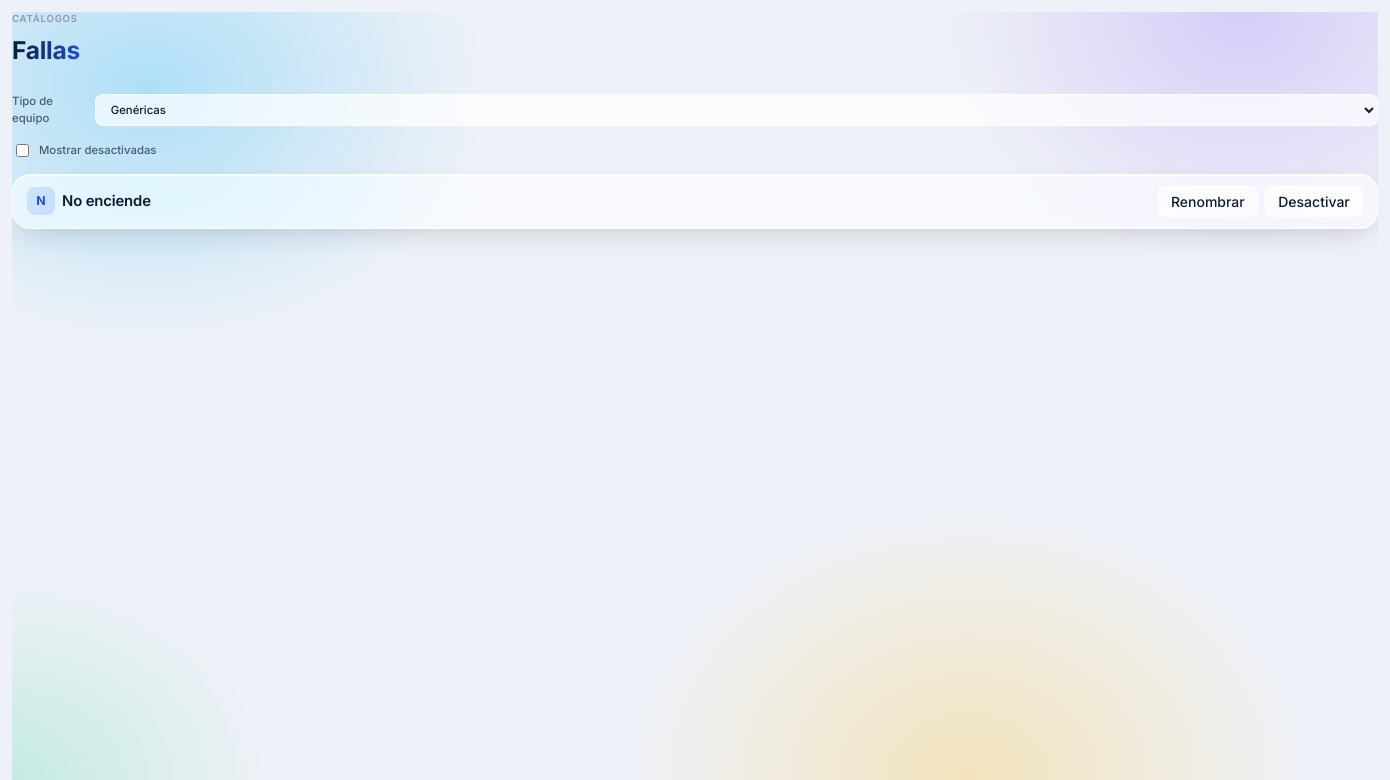
it: FailuresPage › al elegir un tipo muestra sus fallas y las genéricas marcadas
This screenshot has width=1390, height=780.
Expected: the text "No enciende" is shown, x1=62 y1=192 x2=151 y2=210
Select "Split" in the dropdown labelled "Tipo de equipo": (737, 110) x1=95 y1=94 x2=1378 y2=126
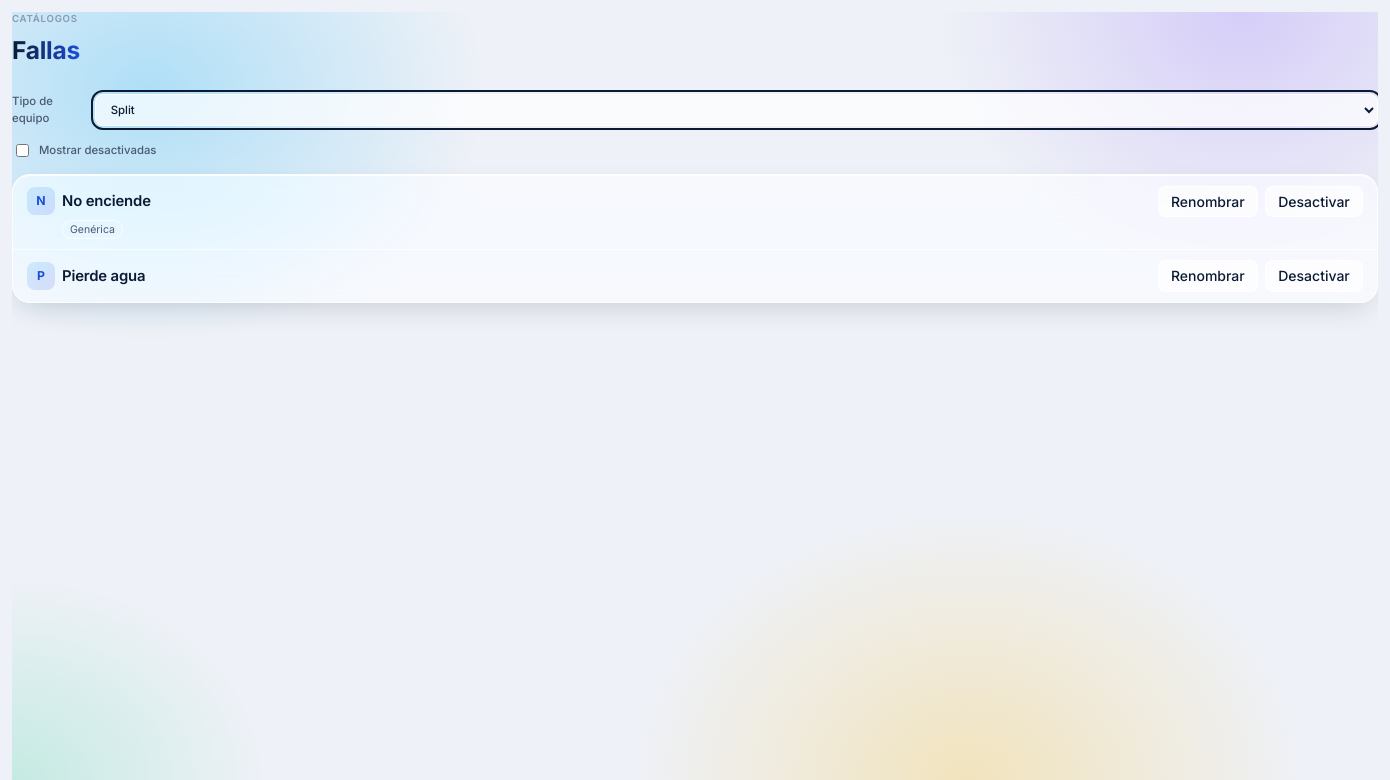
Expected: the text "Pierde agua" is shown, x1=62 y1=267 x2=146 y2=285
Expected: the text "Genérica" is shown, x1=62 y1=220 x2=123 y2=239
